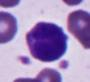L: (25, 20, 68, 62)
